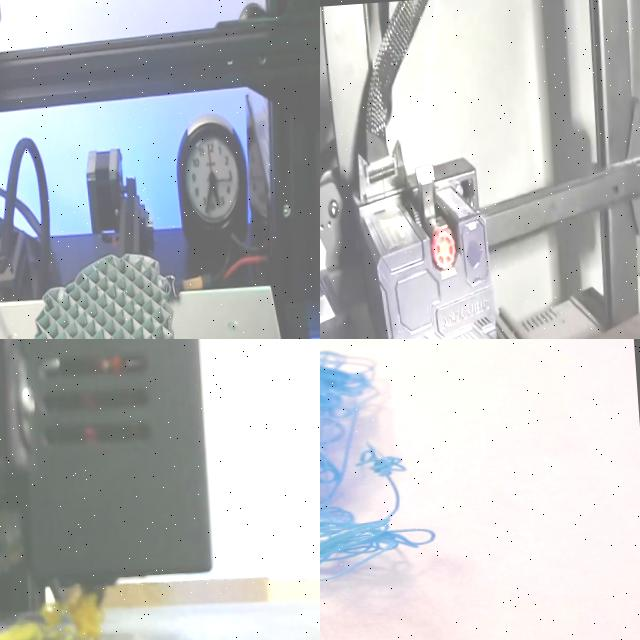spaghetti: (320, 341, 454, 632), (0, 584, 104, 640)
